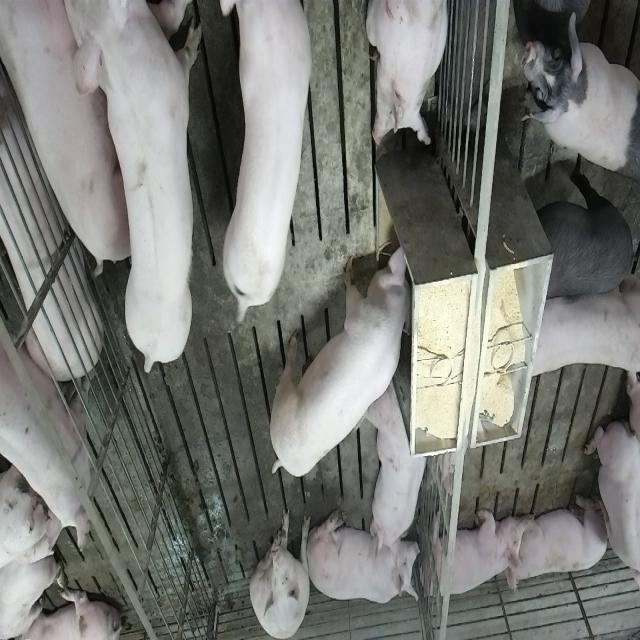Feeding: (265, 242, 411, 478)
Lateral_lying: (0, 49, 101, 383), (0, 0, 124, 271)
Sitting: (250, 504, 312, 638)
Standing: (80, 4, 206, 382), (223, 0, 320, 316), (0, 304, 90, 546), (520, 28, 638, 174), (530, 166, 637, 306), (521, 272, 637, 384)
Sternal_lying: (366, 0, 451, 149), (370, 377, 431, 559), (310, 508, 416, 610), (509, 491, 612, 589), (584, 417, 638, 602), (426, 503, 524, 603)
